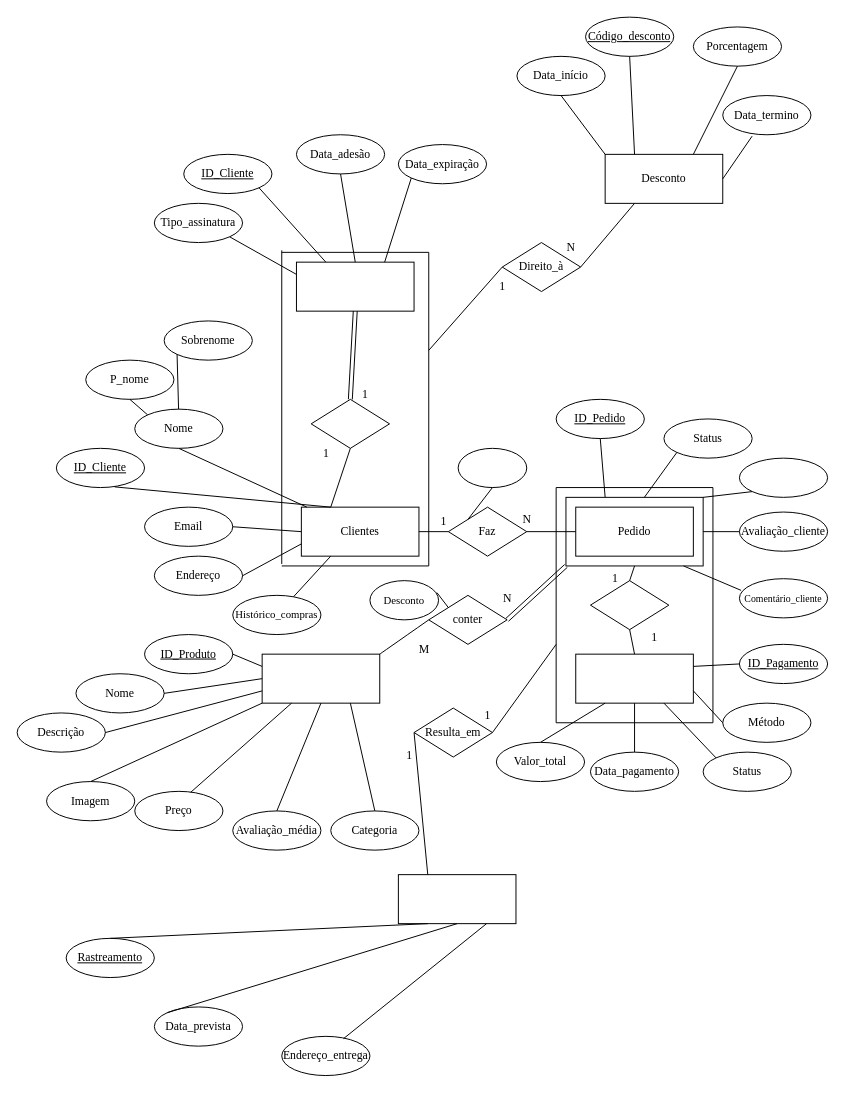
Some shapes in this 845 by 1093 pixel diagram are drawn without their labels. The shapes that lost their labels are listed below. From the top down, each one's centre as x and y in pixels, then its label:
At point 354,286: "Assinatura_premium".
At point 350,423: "Possui".
At point 492,467: "Data_compra".
At point 783,477: "Método_entrega".
At point 629,605: "Associado".
At point 320,678: "Produtos".
At point 634,678: "Pagamentos".
At point 456,899: "Entrega".
